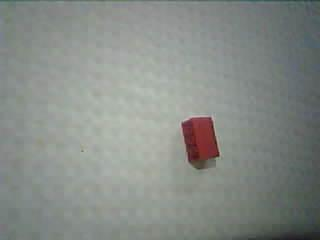lego: (181, 116, 220, 164)
